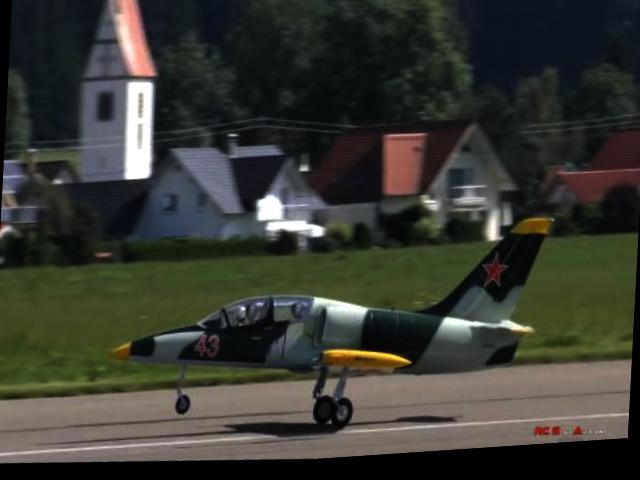uav: (102, 192, 557, 460)
